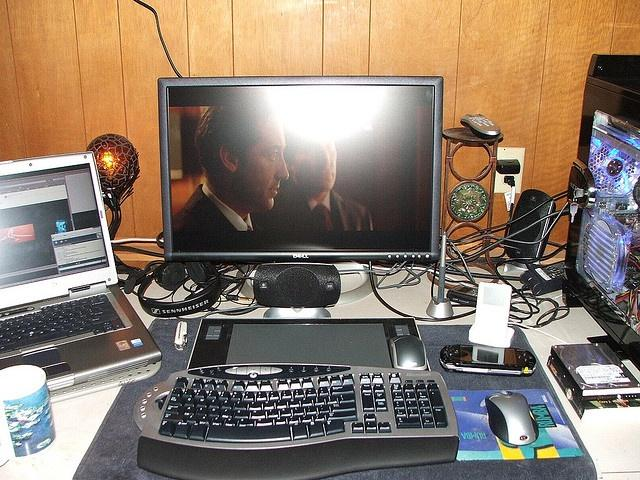AIO PC-Monitor-TV: (156, 74, 443, 264)
